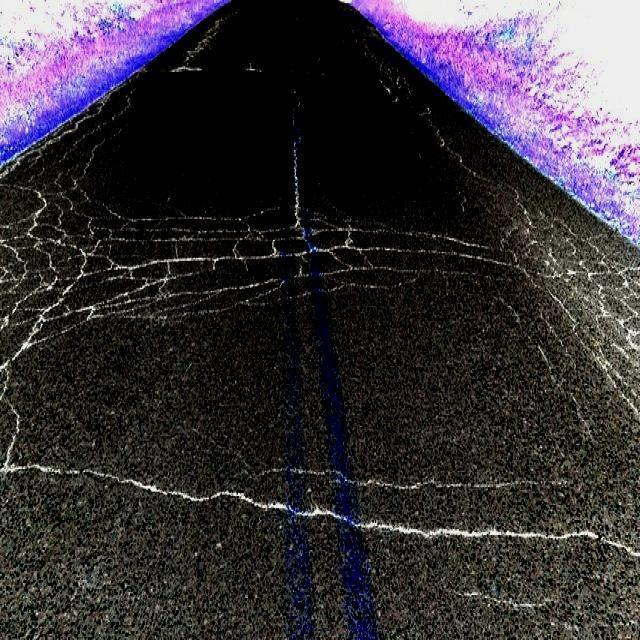GRIETA: (8, 464, 289, 512), (355, 522, 639, 557), (294, 468, 569, 490), (2, 405, 20, 472), (291, 507, 346, 522), (294, 142, 299, 210)
PIEL DE COCODRILO: (0, 73, 639, 434)
